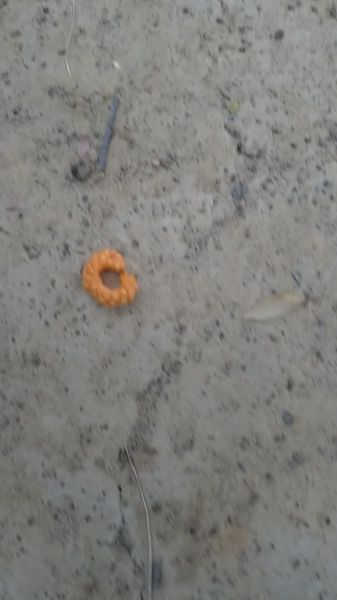eggs: (80, 243, 145, 313)
